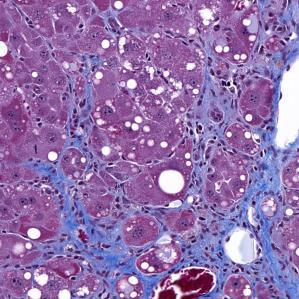fibrosis: (194, 129, 287, 266), (47, 149, 140, 265)
